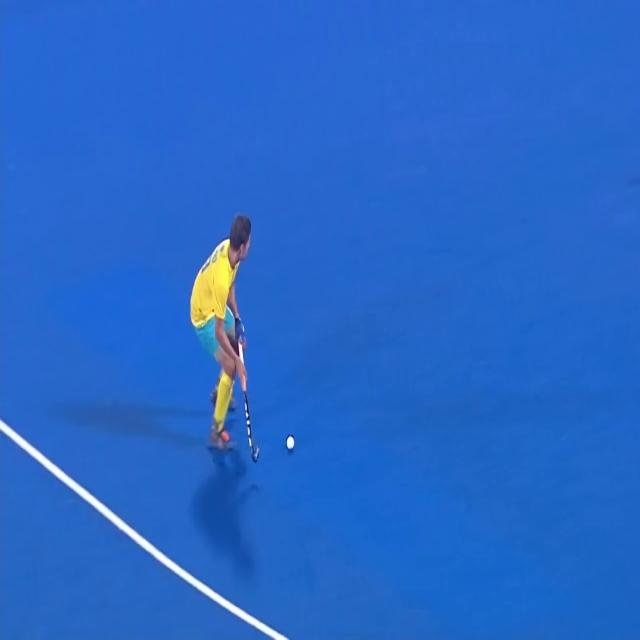ball: (281, 421, 304, 459)
